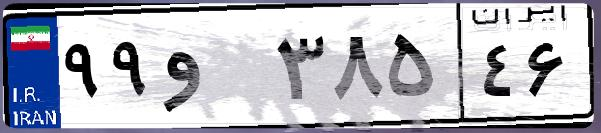3: (270, 28, 330, 110)
4: (475, 38, 525, 113)
5: (385, 28, 445, 110)
6: (525, 38, 570, 115)
8: (330, 28, 385, 110)
9: (57, 26, 110, 100), (110, 28, 158, 98)
و: (158, 20, 270, 120)
